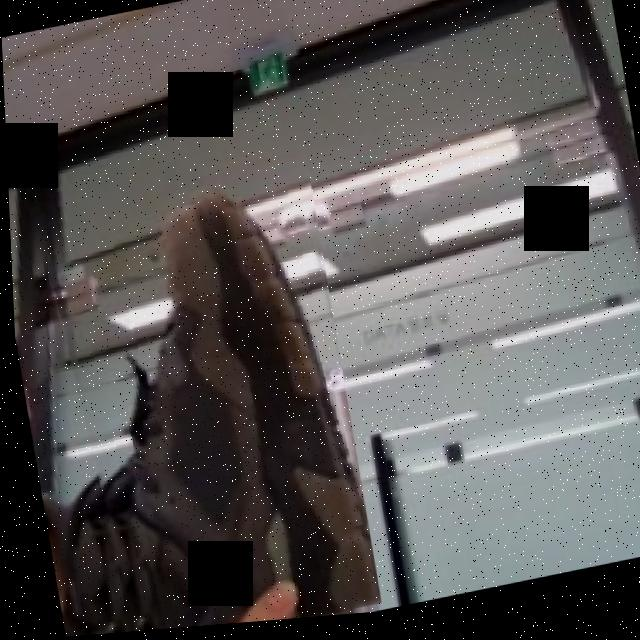shoe: (27, 135, 376, 639)
